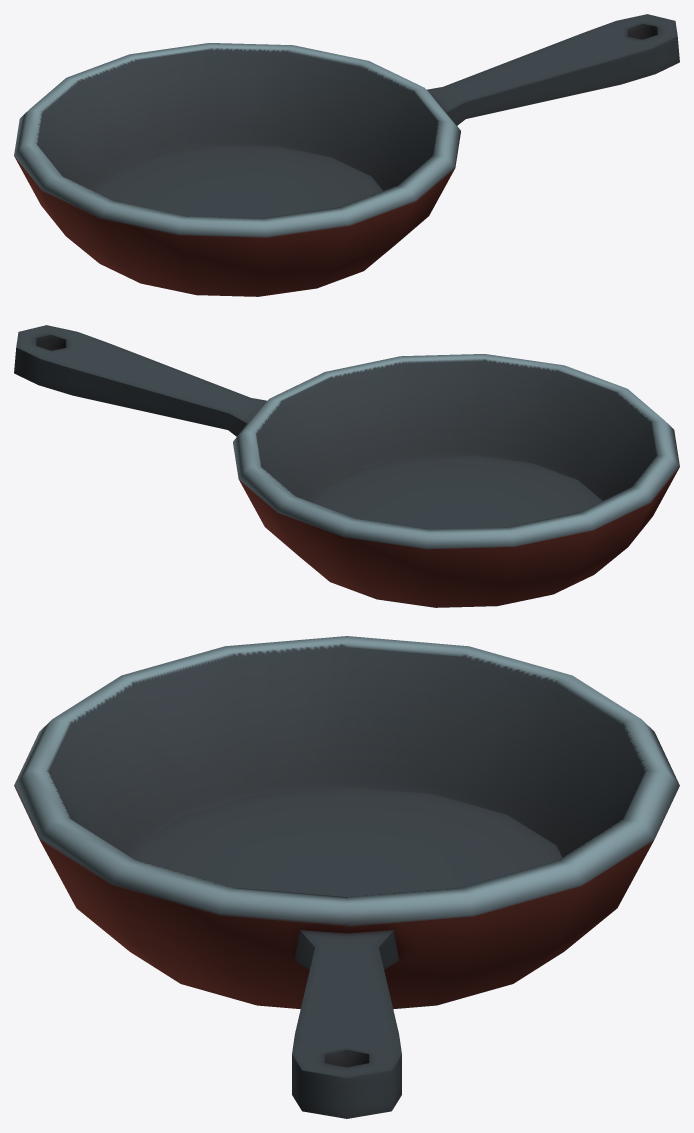
Rendered from pan_01.fbx.
The picture shows the model from 3 angles, top to bottom: view 1: azimuth 30°, elevation 25°; view 2: azimuth 150°, elevation 25°; view 3: azimuth 270°, elevation 25°; orthographic projection. The views are drawn at different scales.
Visible parts, largest first — view 1: pan_01_ready; view 2: pan_01_ready; view 3: pan_01_ready.
Boxes of the visible parts, x1,y1,x2,y2 form: pan_01_ready: [14, 14, 679, 296]; pan_01_ready: [14, 325, 679, 607]; pan_01_ready: [14, 636, 679, 1118].
Size of the model in its own units: 64.7 by 9.96 by 39.77.
